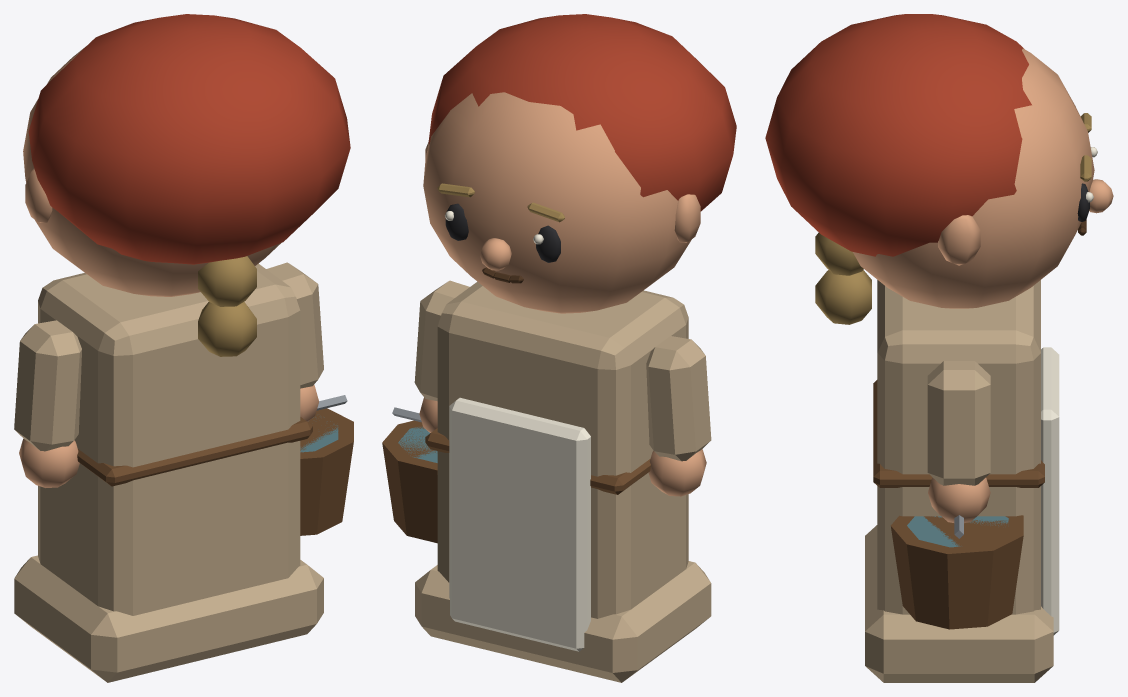
Rendered from villager_woman.fbx.
3 renders of one model, left to right at view 1: azimuth 30°, elevation 25°; view 2: azimuth 150°, elevation 25°; view 3: azimuth 270°, elevation 25°, orthographic. The views are drawn at different scales.
Parts seen in each view (by area): view 1: Body, Head, ArmL, Bucket, ArmR; view 2: Body, Head, ArmL, Bucket, ArmR; view 3: Head, Body, Bucket, ArmR.
Boxes of the visible parts, x1,y1,x2,y2 form: Body: (14,263,323,682); Head: (23,14,350,356); ArmL: (14,320,81,487); Bucket: (300,395,353,535); ArmR: (266,262,323,421); Body: (415,281,711,682); Head: (423,14,736,313); ArmL: (646,336,711,496); Bucket: (382,407,437,543); ArmR: (414,280,469,432); Head: (765,14,1113,324); Body: (865,280,1059,682); Bucket: (891,515,1023,629); ArmR: (927,361,990,523).
Bounding box in the file's own units: 0.4582 × 0.4318 × 0.8257.
